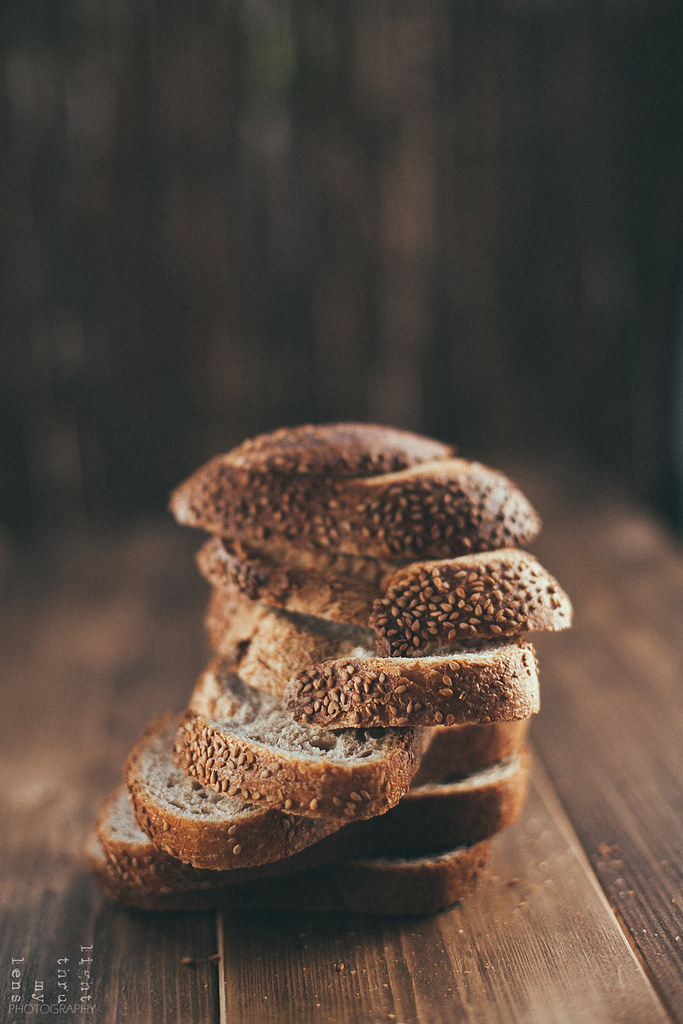slice of bread: (106, 414, 574, 930), (110, 705, 552, 869), (174, 413, 551, 558), (179, 527, 573, 650)
